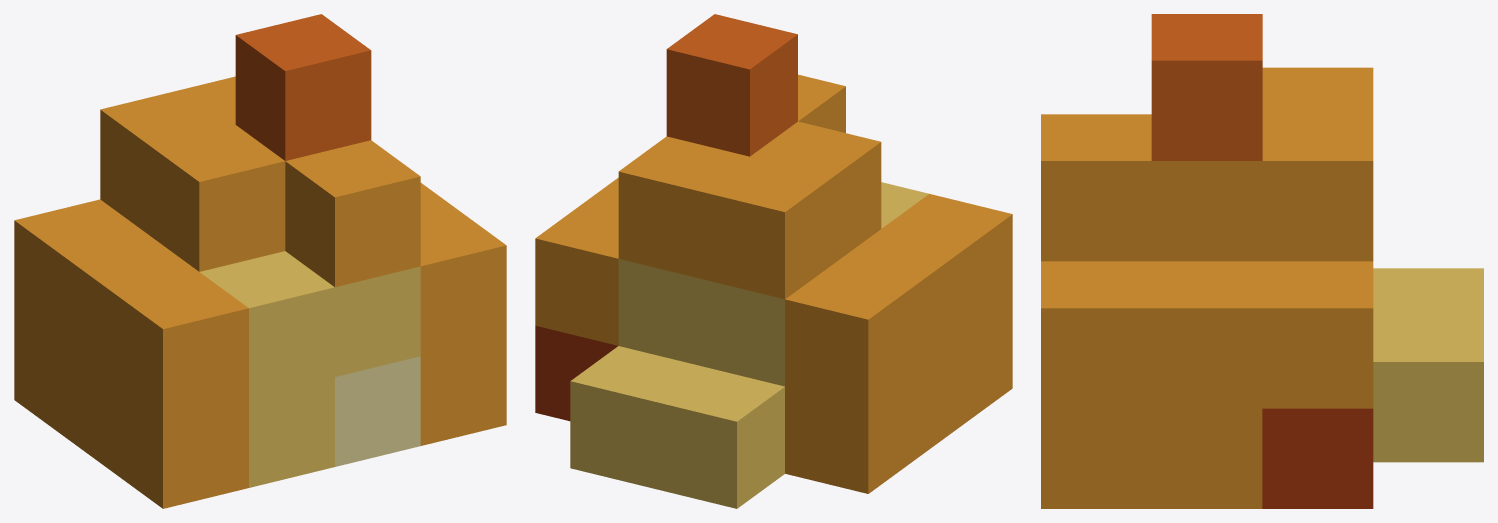
The model's file is flame_01.glb.
The picture shows the model from 3 angles, left to right: view 1: azimuth 30°, elevation 25°; view 2: azimuth 150°, elevation 25°; view 3: azimuth 270°, elevation 25°; orthographic projection. The views are drawn at different scales.
Parts seen in each view (by area): view 1: flame_01; view 2: flame_01; view 3: flame_01.
Boxes of the visible parts, x1=… form: flame_01: x1=14, y1=14, x2=506, y2=508; flame_01: x1=535, y1=14, x2=1012, y2=508; flame_01: x1=1041, y1=14, x2=1483, y2=508.
Size of the model in its own units: 0.5 by 0.5 by 0.5.
